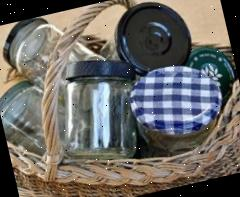glass: (0, 0, 240, 189)
